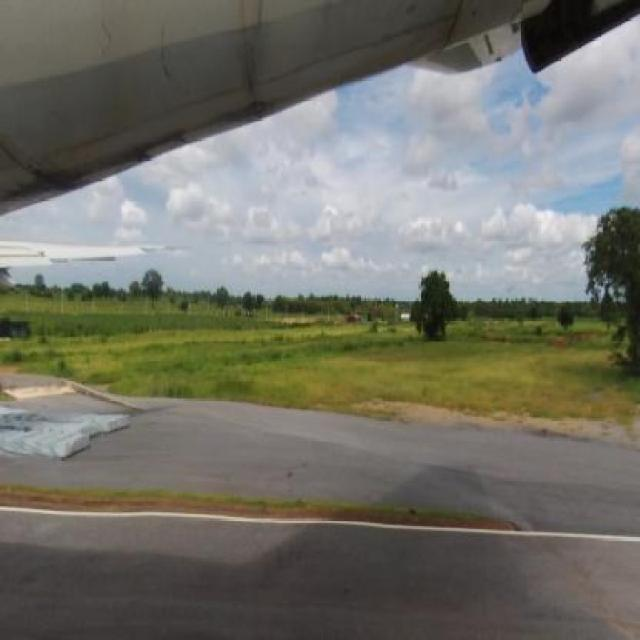Rust: (9, 144, 151, 201), (138, 15, 191, 97), (88, 7, 120, 70)
